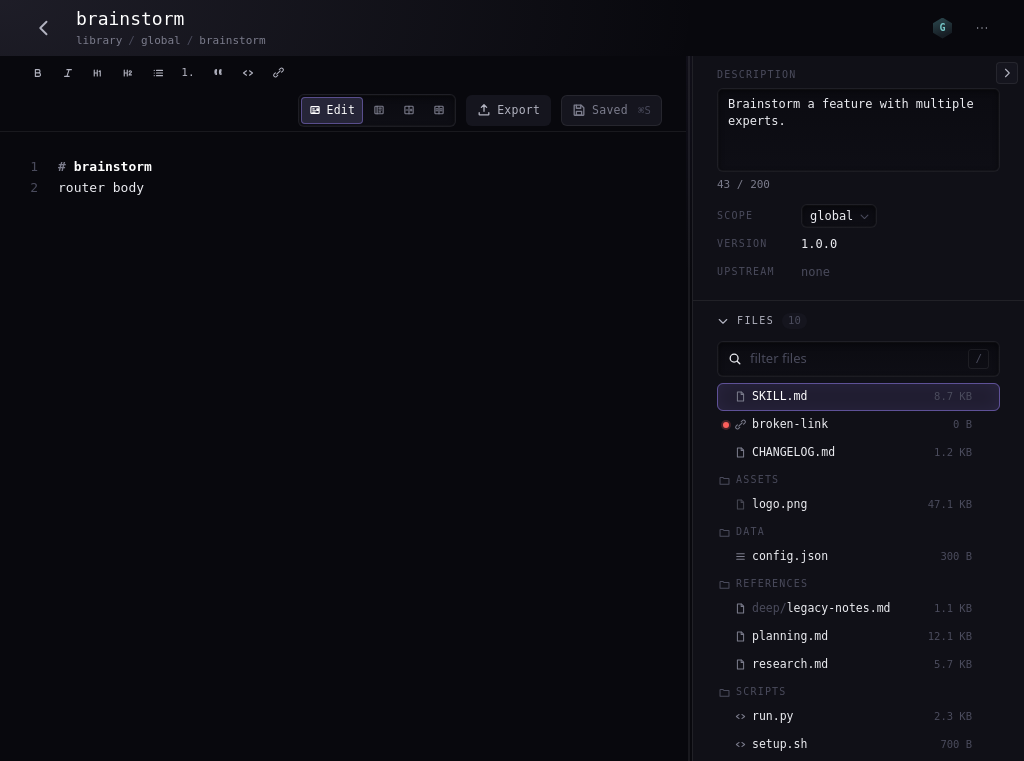
Test: skill editor side panel — IA › [3] identity facts are text until clicked; version opens its own field
The image size is (1024, 761).
Expected: the element showing "scope global version 1.0.0 upstream none" is shown, [717,204,877,284]
Expected: the dropdown named "Scope" reads "global", [801,204,877,228]
Click the button named "Rename version".
click(828, 244)  # box [797,232,859,256]
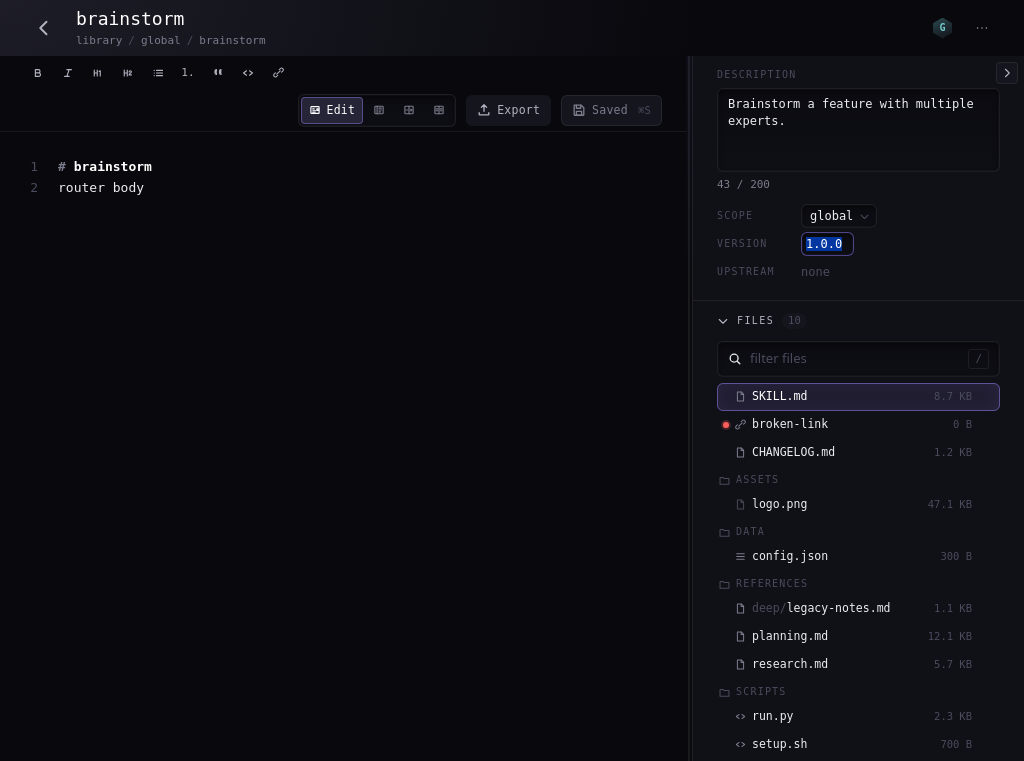
Expected: the field named "Version" holds "1.0.0", [801,232,854,256]
